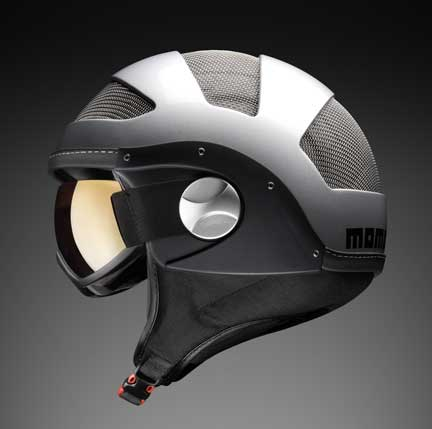helmet: (58, 59, 394, 264)
